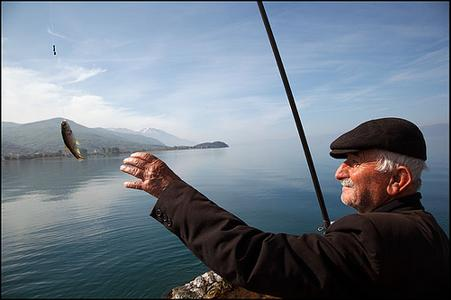person: (119, 117, 451, 300)
